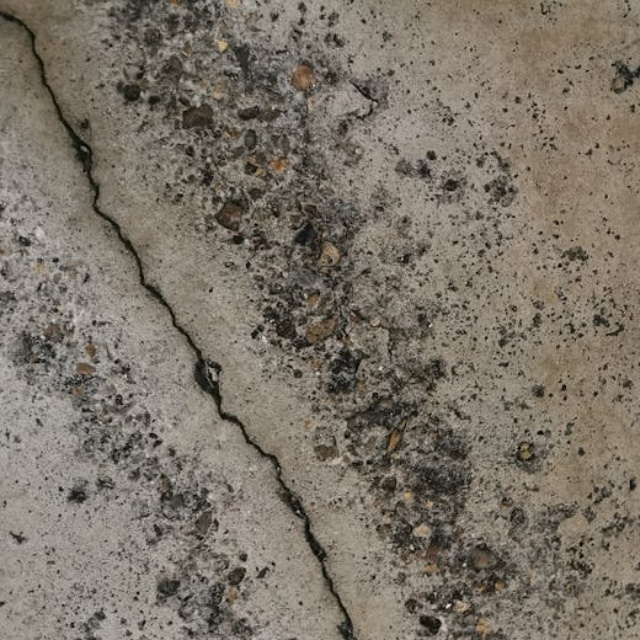细微裂纹: (0, 0, 324, 521), (272, 454, 443, 640)
